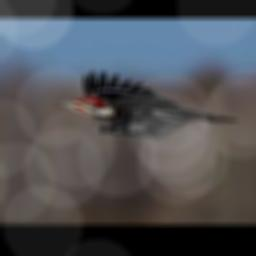Woodpecker: (53, 69, 238, 139)
